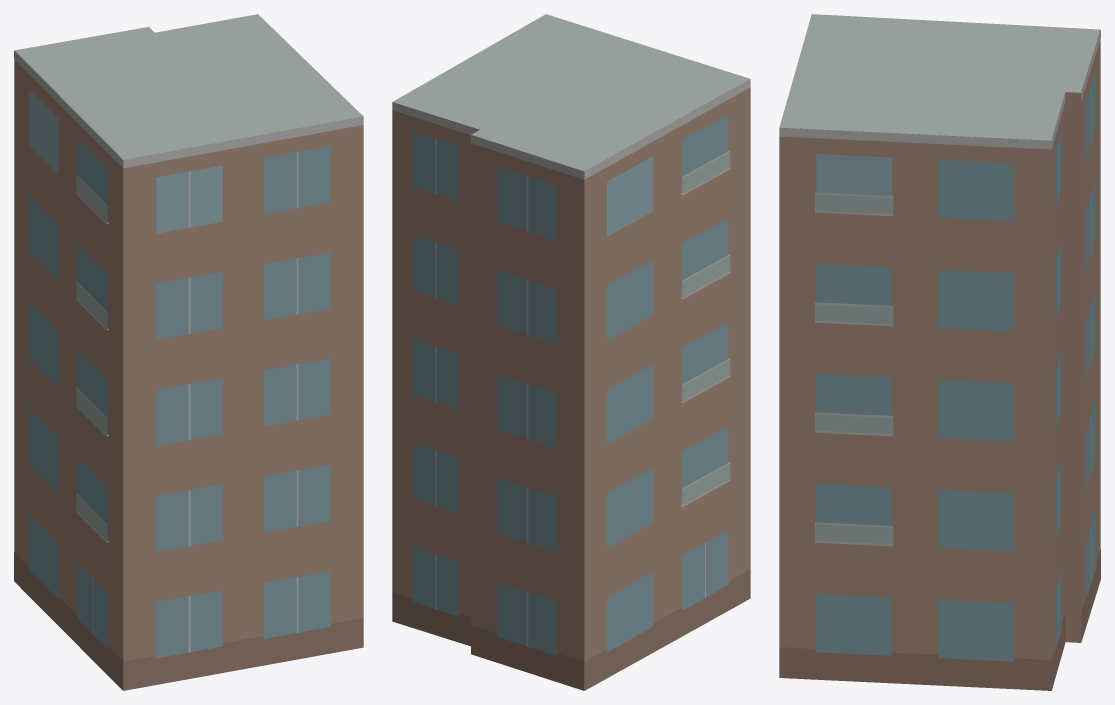
Rendered from survey-upis-32658978.glb.
The picture shows the model from 3 angles, left to right: view 1: azimuth 30°, elevation 25°; view 2: azimuth 150°, elevation 25°; view 3: azimuth 270°, elevation 25°; orthographic projection. The views are drawn at different scales.
Visible parts, largest first — view 1: survey-upis-32658978.tmp; view 2: survey-upis-32658978.tmp; view 3: survey-upis-32658978.tmp.
Boxes of the visible parts, <box> form: survey-upis-32658978.tmp: <box>14,14,363,690</box>; survey-upis-32658978.tmp: <box>392,14,750,690</box>; survey-upis-32658978.tmp: <box>779,14,1100,690</box>.
Bounding box in the file's own units: 7.54 × 15.25 × 8.08.
